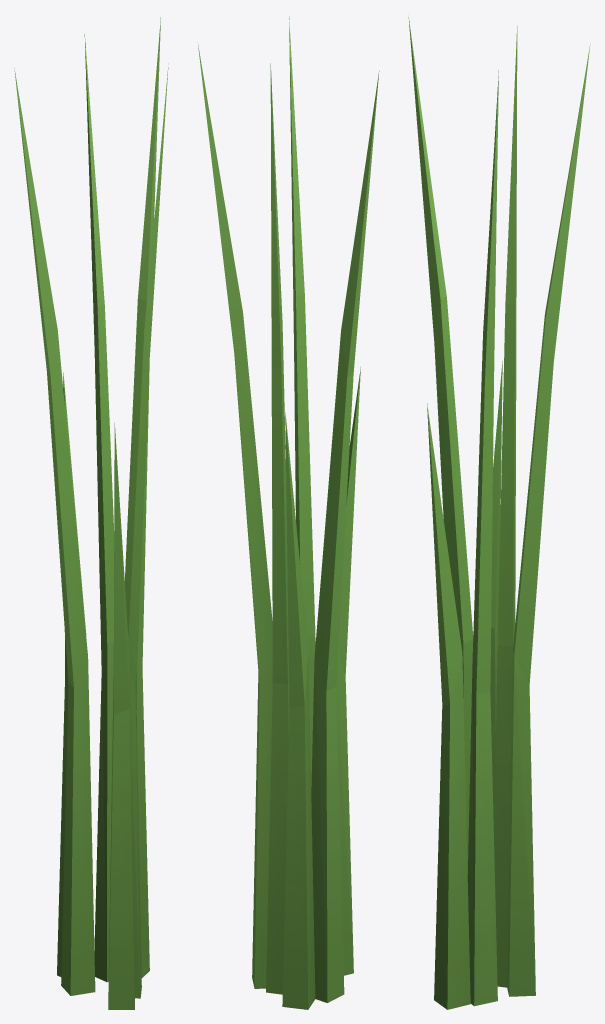
Rendered from grass_reed.glb.
3 renders of one model, left to right at view 1: azimuth 30°, elevation 25°; view 2: azimuth 150°, elevation 25°; view 3: azimuth 330°, elevation 25°, orthographic.
Parts seen in each view (by area): view 1: grass_reed; view 2: grass_reed; view 3: grass_reed.
Boxes of the visible parts, bbox=[...] form: grass_reed: bbox=[14, 17, 168, 1009]; grass_reed: bbox=[197, 16, 379, 1009]; grass_reed: bbox=[408, 17, 590, 1009].
Bounding box in the file's own units: 0.1465 × 0.8 × 0.098.
1 material, 1 textured.
